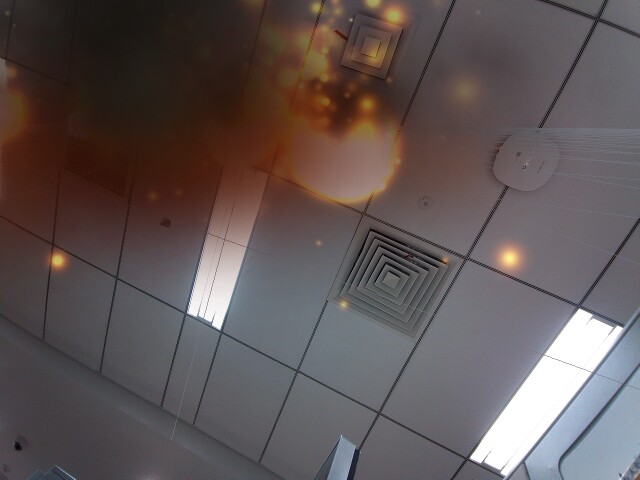fire: (292, 95, 410, 208), (208, 90, 283, 167), (0, 86, 30, 150)
